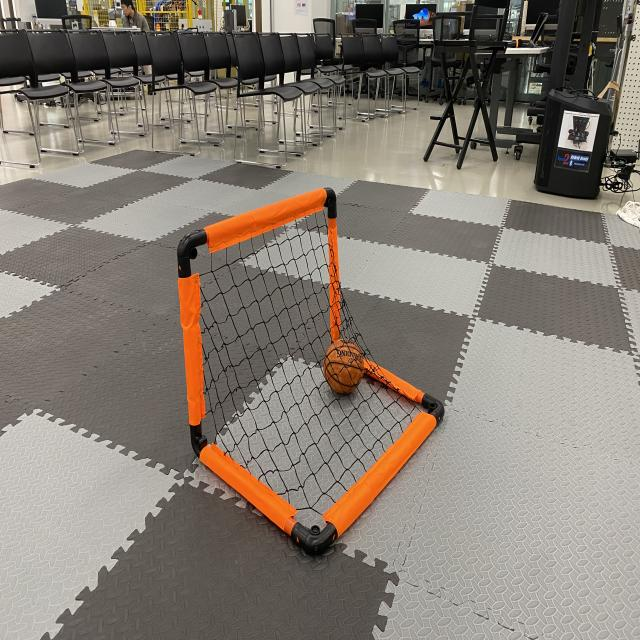ball: (320, 333, 368, 400)
gate: (174, 181, 448, 563)
